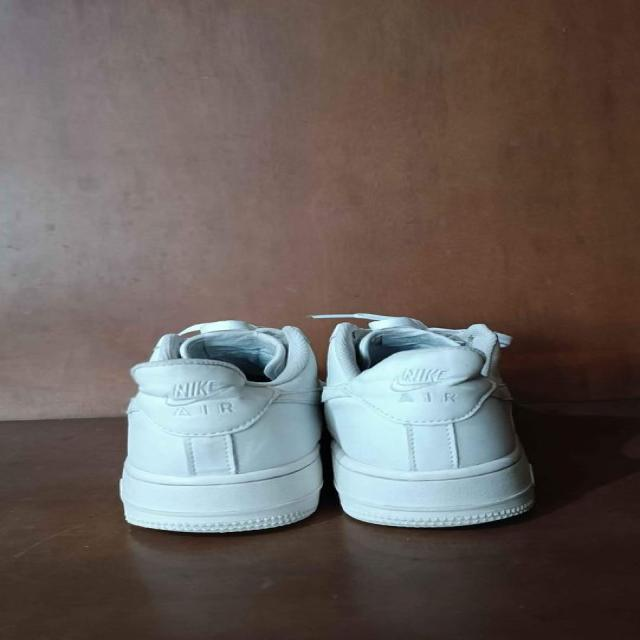nike original air force: (323, 318, 542, 532), (113, 316, 321, 534)
